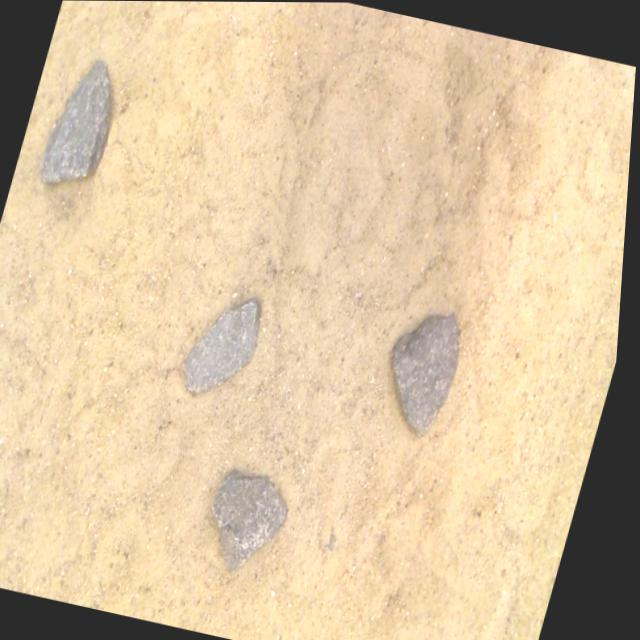rock: (42, 60, 111, 182), (396, 313, 462, 435), (218, 469, 293, 570), (189, 298, 263, 392)
